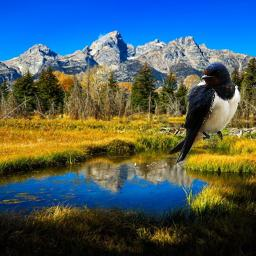Swallow: (167, 61, 242, 166)
